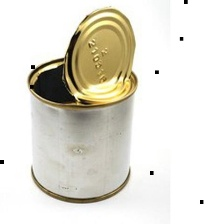can: (22, 2, 155, 207)
